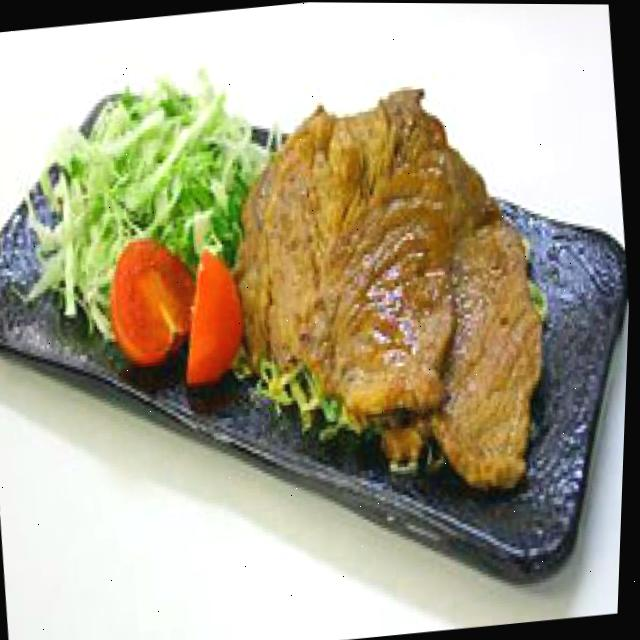猪肉菜式: (192, 44, 573, 536)
